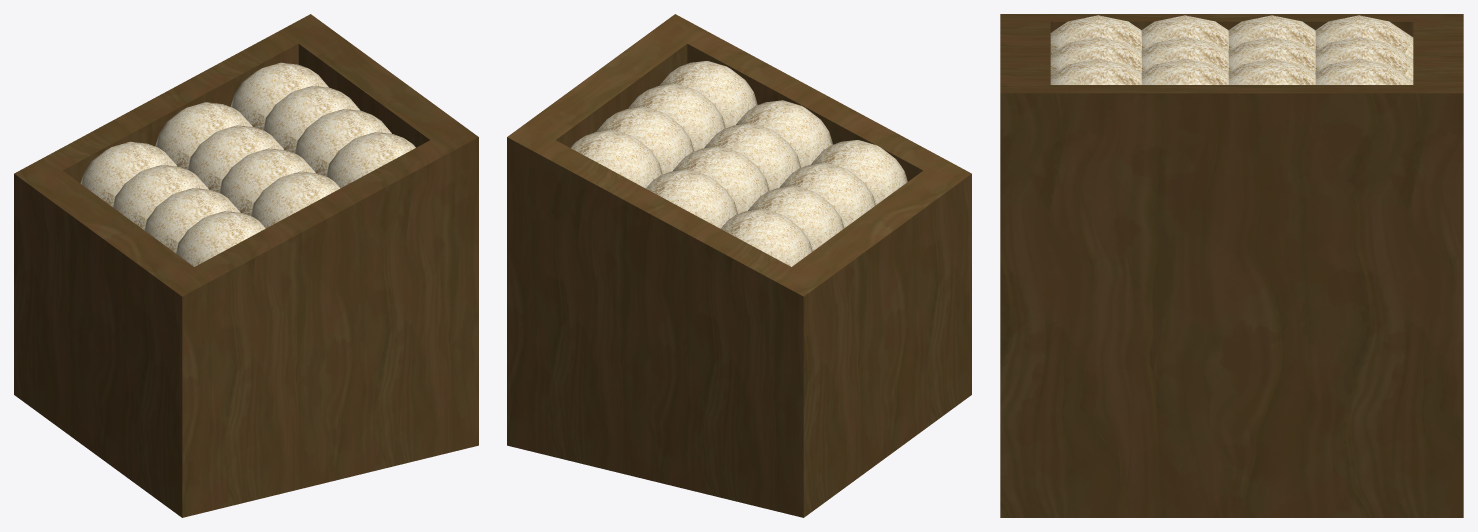
Rendered from ARROZ_SPAWNER_PRP.fbx.
3 views of the same model, side by side, from view 1: azimuth 30°, elevation 25°; view 2: azimuth 150°, elevation 25°; view 3: azimuth 270°, elevation 25° (orthographic). The views are drawn at different scales.
Parts seen in each view (by area): view 1: ARROZ_SPAWNER_PRP; view 2: ARROZ_SPAWNER_PRP; view 3: ARROZ_SPAWNER_PRP.
Boxes of the visible parts, x1=… form: ARROZ_SPAWNER_PRP: x1=14, y1=14, x2=478, y2=517; ARROZ_SPAWNER_PRP: x1=507, y1=14, x2=971, y2=517; ARROZ_SPAWNER_PRP: x1=1000, y1=14, x2=1463, y2=517.
Bounding box in the file's own units: 47.79 × 47.48 × 46.92.
Materials: 2 (2 with a texture image).
